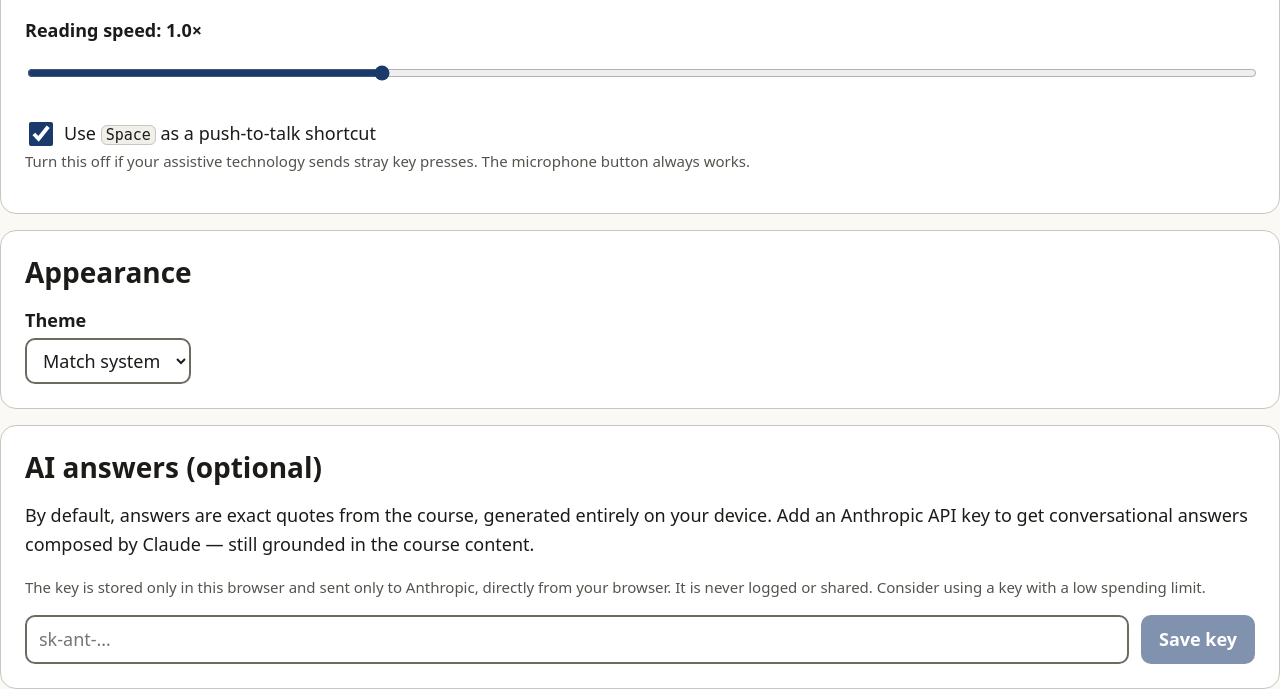
SettingsPanel › saves the API key to browser storage only
(page scrolled)
In the password field named "anthropic api key": (577, 639) [25,615,1129,664], type "sk-ant-test-key"
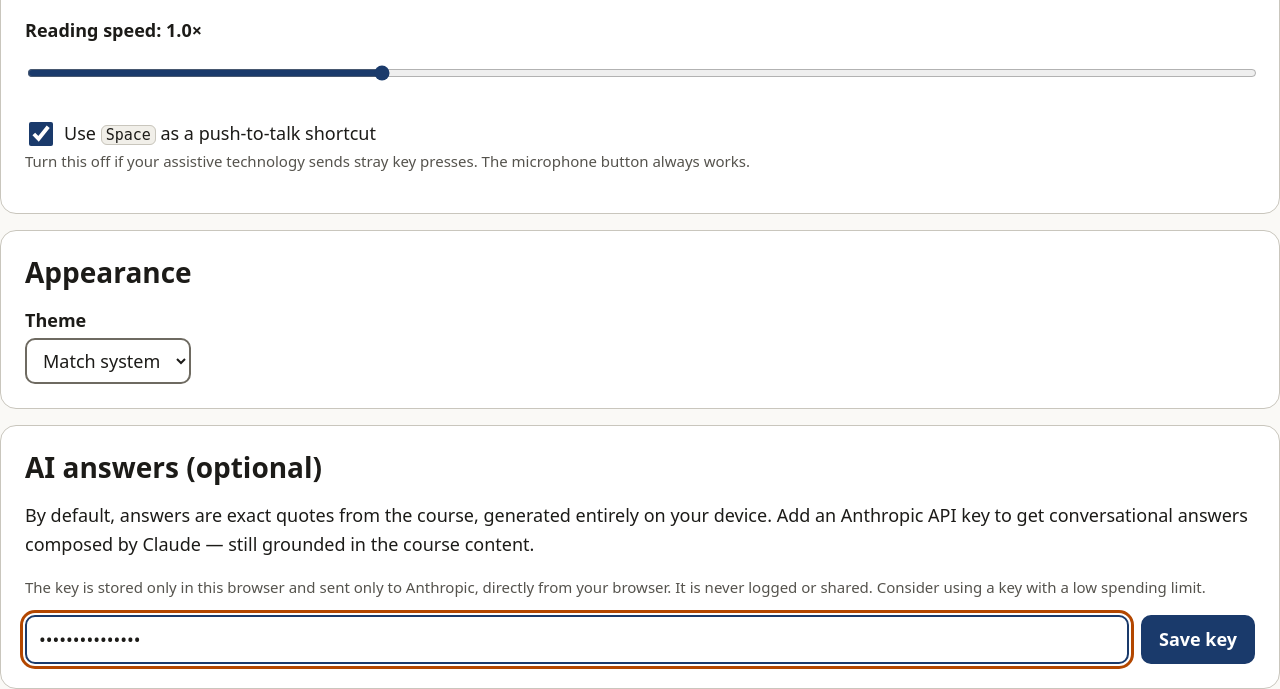
Click the button "Save key": click(1198, 639) [1141,615,1255,664]
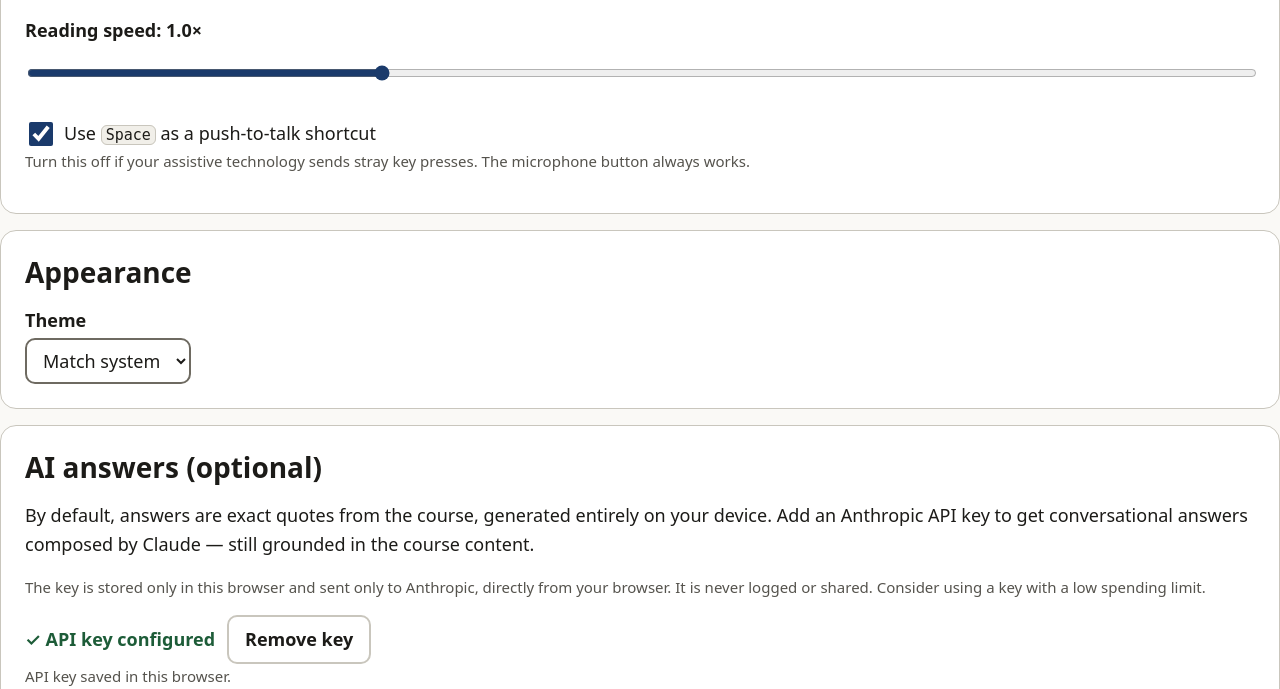
Expected: the text "✓ API key configured" is shown, [25,625,215,654]
